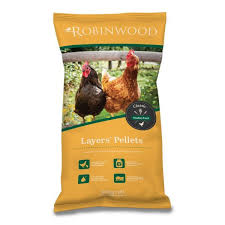feed_bag: (47, 6, 182, 221)
